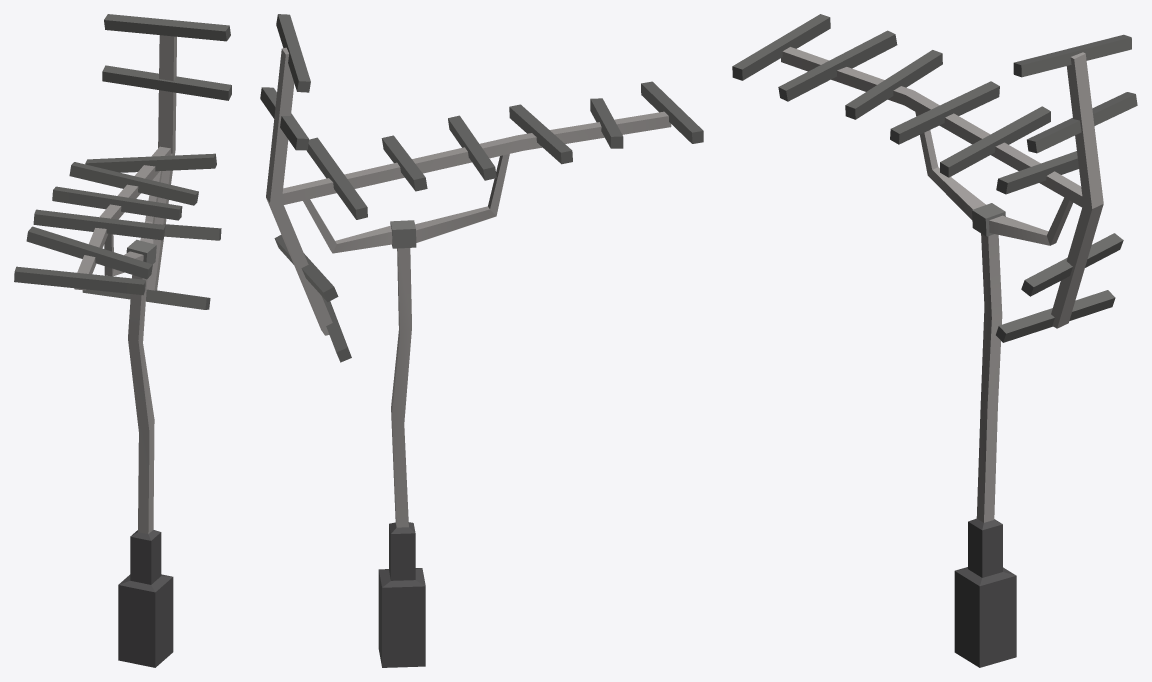
File: SM_Prop_Aerial_01.glb
3 views of the same model, side by side, from view 1: azimuth 30°, elevation 25°; view 2: azimuth 150°, elevation 25°; view 3: azimuth 270°, elevation 25° (orthographic). The views are drawn at different scales.
Visible parts, largest first — view 1: SM_Prop_Aerial_01; view 2: SM_Prop_Aerial_01; view 3: SM_Prop_Aerial_01.
Part boxes in pixels (x1,y1,x2,y2): SM_Prop_Aerial_01: (14,14,231,667); SM_Prop_Aerial_01: (260,14,703,667); SM_Prop_Aerial_01: (732,14,1137,667).
Bounding box in the file's own units: 1.1 × 1.97 × 1.13.
1 material, 1 textured.
